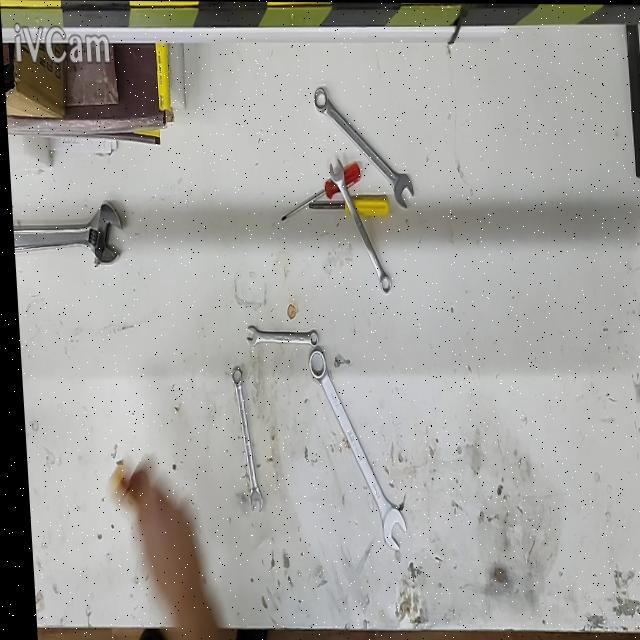Screwdriver: (278, 162, 358, 222), (306, 194, 388, 216)
